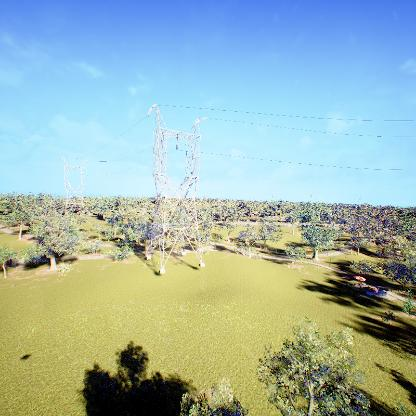tower: (145, 103, 209, 274), (59, 155, 88, 215)
